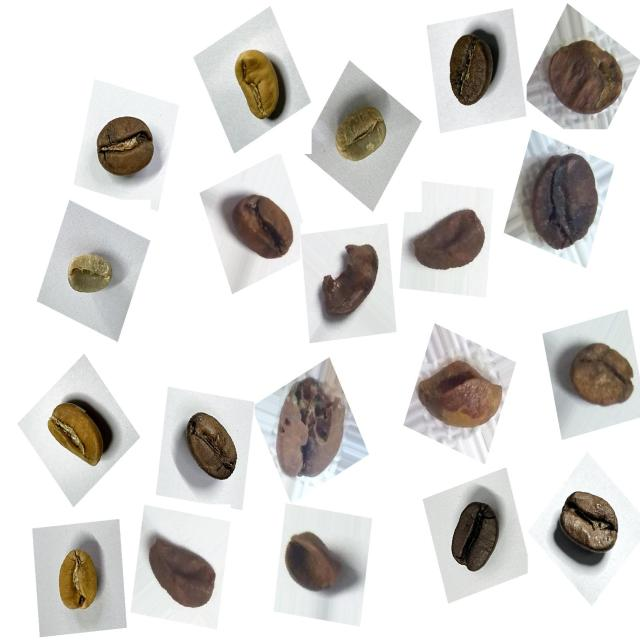bad: (265, 365, 355, 487), (519, 145, 609, 261), (414, 349, 512, 447), (537, 26, 628, 124), (144, 527, 224, 622), (407, 195, 491, 285), (313, 232, 387, 332), (560, 327, 640, 419), (224, 183, 302, 272), (277, 520, 352, 608)
dark: (549, 482, 630, 577), (436, 492, 508, 588)
green: (326, 94, 396, 178), (60, 244, 124, 310)
light: (37, 390, 118, 480), (220, 37, 290, 131), (45, 538, 109, 624)
medium: (435, 22, 507, 119), (87, 102, 165, 191), (174, 402, 247, 494)
